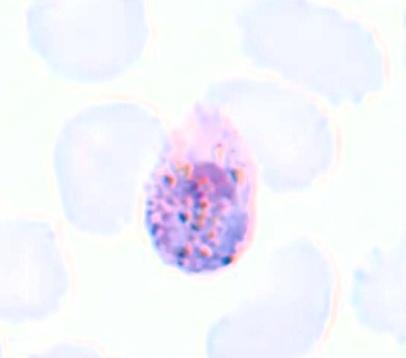Infected: (145, 98, 257, 271)
Uninfected: (235, 0, 378, 103), (210, 78, 337, 193), (53, 101, 159, 233), (209, 245, 331, 358), (25, 0, 148, 83), (0, 216, 75, 326)
